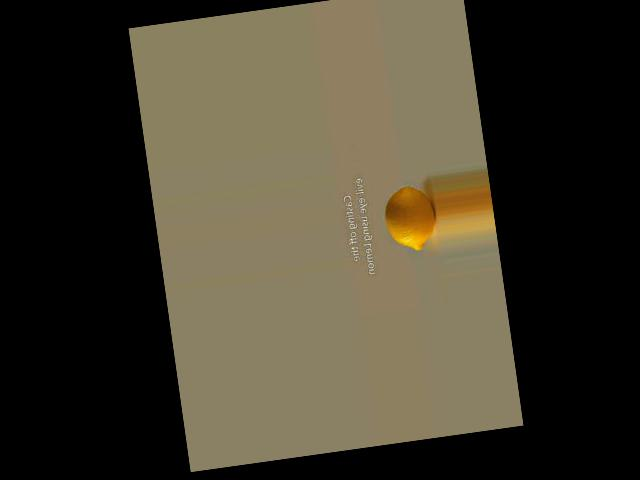lemon: (376, 177, 438, 263)
